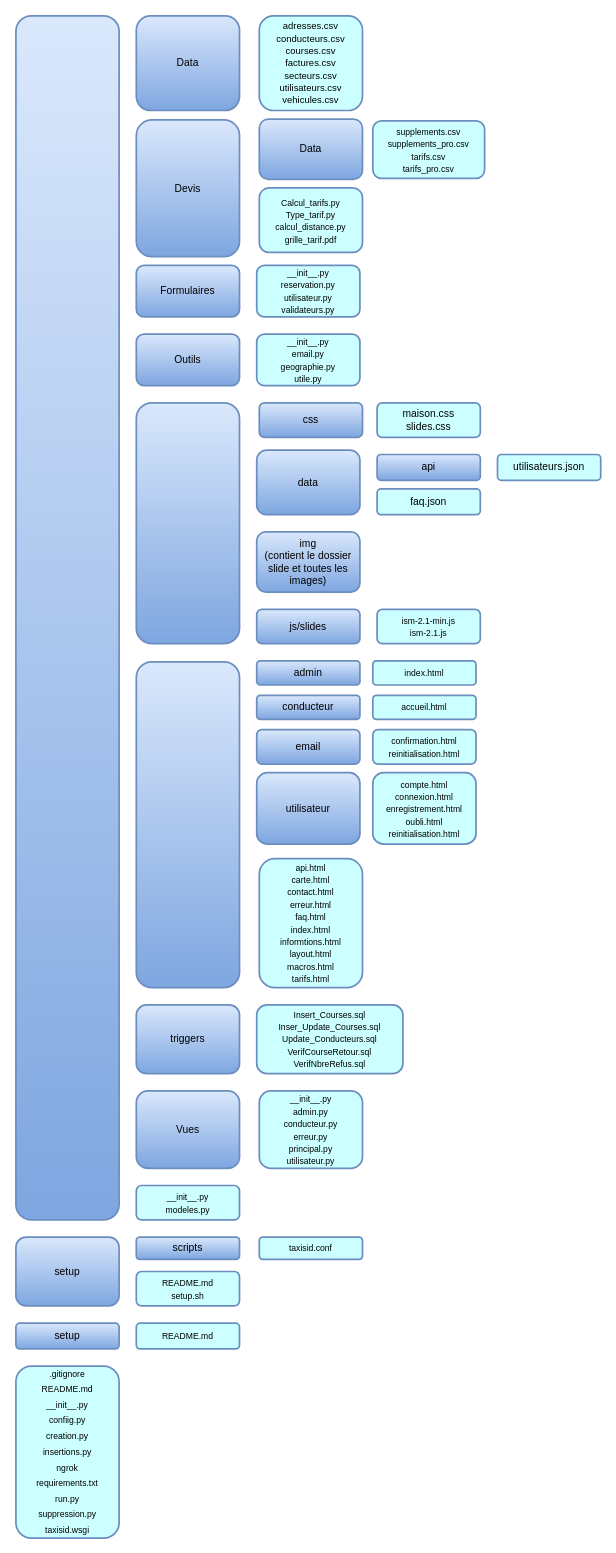
Image size: 616x1553. Some labels were removed from this diagram. Here are the shapes that lost their labels. From the top down, the centre of each, then its label:
the point at 187,523: Static
the point at 67,617: App
the point at 187,824: Templates
